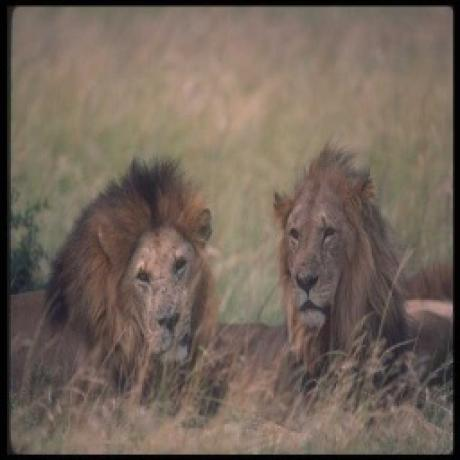Lion: (5, 158, 219, 392), (270, 141, 454, 381)
